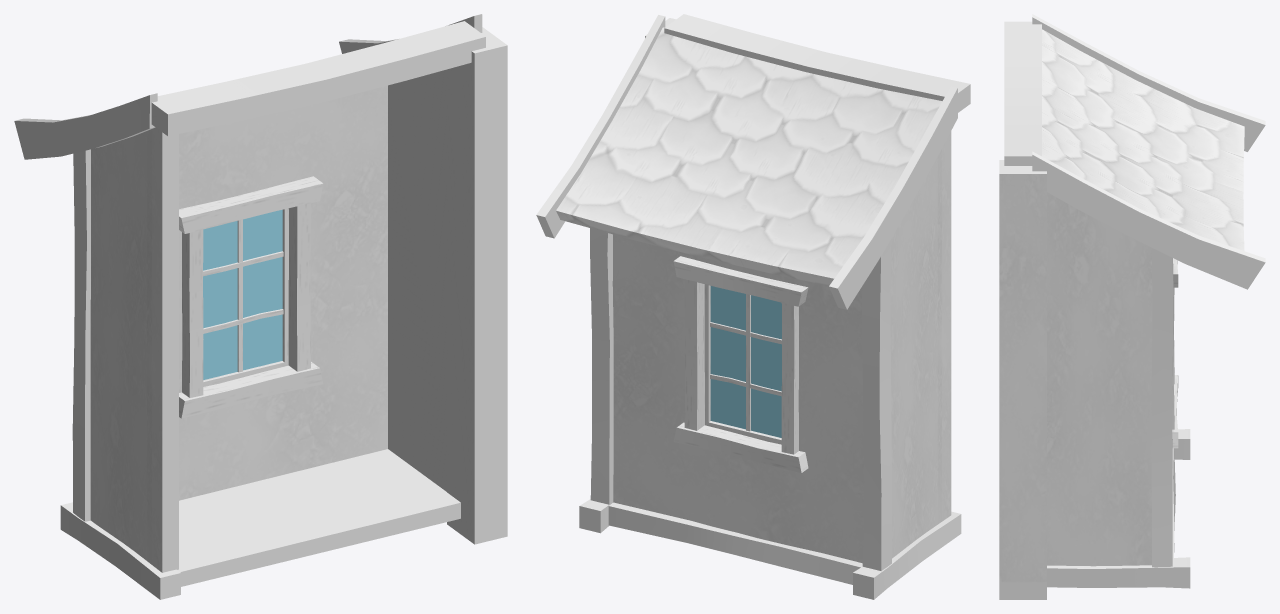
File: ARC0110029.fbx
3 renders of one model, left to right at view 1: azimuth 30°, elevation 25°; view 2: azimuth 150°, elevation 25°; view 3: azimuth 270°, elevation 25°, orthographic. The views are drawn at different scales.
Visible parts, largest first — view 1: smARC0110029; view 2: smARC0110029; view 3: smARC0110029.
Boxes of the visible parts, x1,y1,x2,y2 form: smARC0110029: (14, 14, 507, 599); smARC0110029: (536, 14, 970, 599); smARC0110029: (999, 14, 1265, 599).
Size of what is drawn, in the model's own units: 270 by 387 by 211.
Materials: 1 (1 with a texture image).
